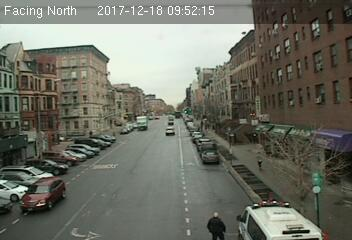car: (19, 177, 67, 208), (201, 151, 221, 163), (165, 126, 175, 135)
police: (235, 200, 329, 240)
